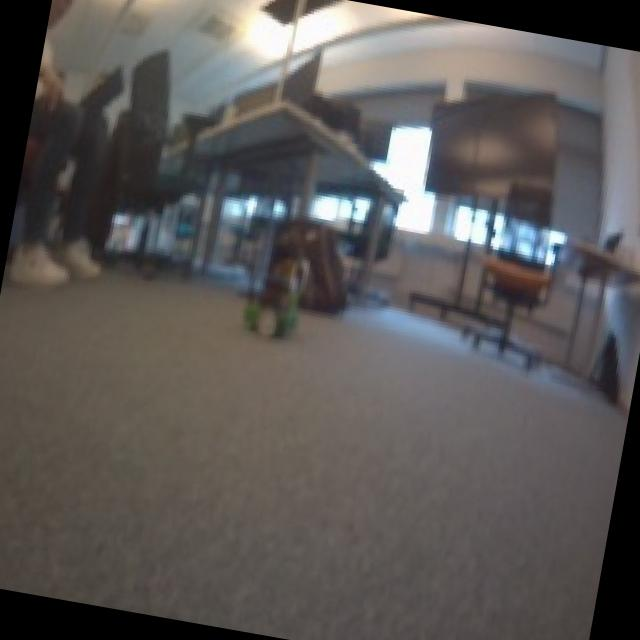robot: (237, 263, 312, 346)
